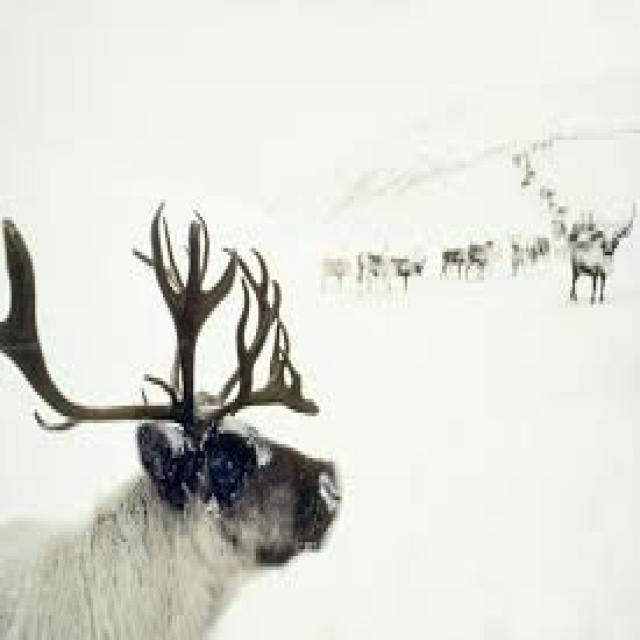reindeer: (0, 203, 337, 637)
